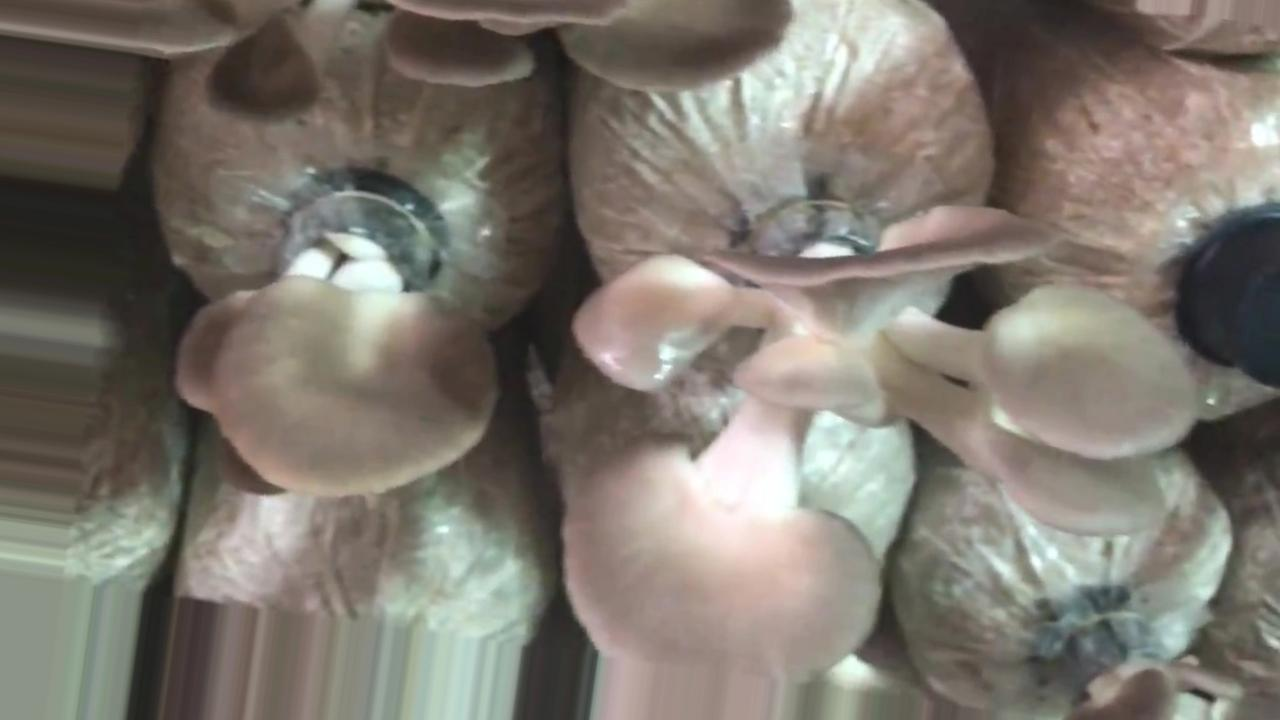nam: (557, 198, 1196, 680), (167, 173, 500, 505), (201, 1, 805, 131)
